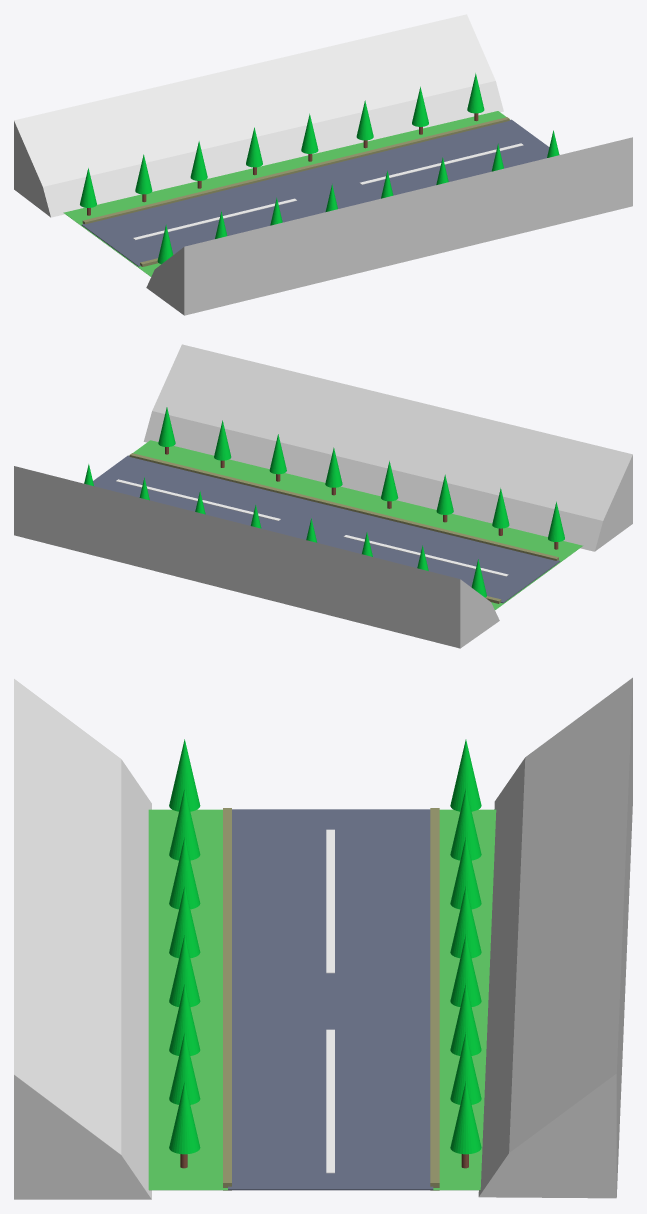
Rendered from roadBlock.fbx.
3 views of the same model, one above another, from view 1: azimuth 30°, elevation 25°; view 2: azimuth 150°, elevation 25°; view 3: azimuth 270°, elevation 25° (orthographic). The views are drawn at different scales.
Parts seen in each view (by area): view 1: Cube.001, Cube, Plane, Cylinder, Plane.003, Plane.002, Plane.001; view 2: Cube, Cube.001, Plane, Plane.003, Cylinder, Plane.002, Plane.001; view 3: Plane, Cube.001, Cube, Plane.003, Cylinder, Plane.002, Plane.001.
Boxes of the visible parts, x1,y1,x2,y2 form: Cube.001: (14, 14, 503, 217); Cube: (146, 137, 632, 315); Plane: (81, 119, 559, 266); Cylinder: (80, 73, 559, 264); Plane.003: (63, 111, 509, 276); Plane.002: (82, 117, 509, 266); Plane.001: (133, 143, 523, 239); Cube: (143, 344, 632, 551); Cube.001: (14, 466, 499, 648); Plane: (93, 455, 560, 603); Plane.003: (133, 440, 582, 609); Cylinder: (84, 407, 564, 597); Plane.002: (129, 453, 558, 603); Plane.001: (116, 479, 508, 576); Plane: (228, 809, 433, 1190); Cube.001: (478, 677, 632, 1198); Cube: (14, 679, 151, 1199); Plane.003: (148, 809, 496, 1190); Cylinder: (169, 739, 481, 1168); Plane.002: (223, 808, 439, 1190); Plane.001: (326, 829, 334, 1173).
Size of the model in its own units: 2630 by 391 by 1733.
